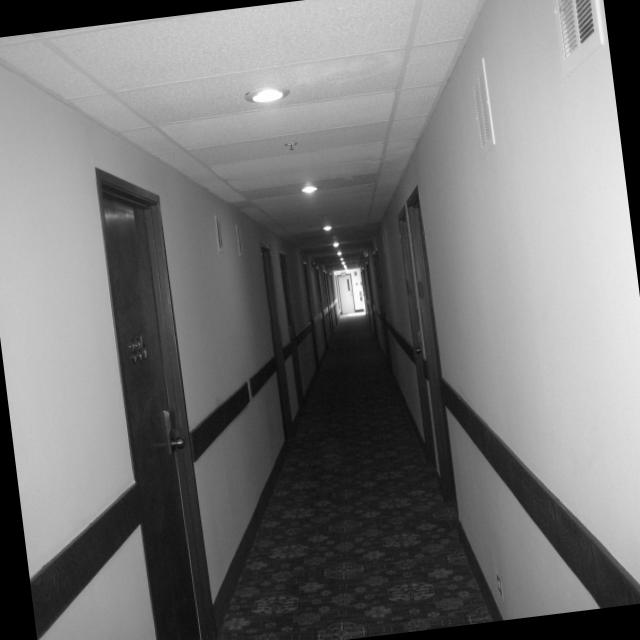door bars: (336, 274, 355, 313)
